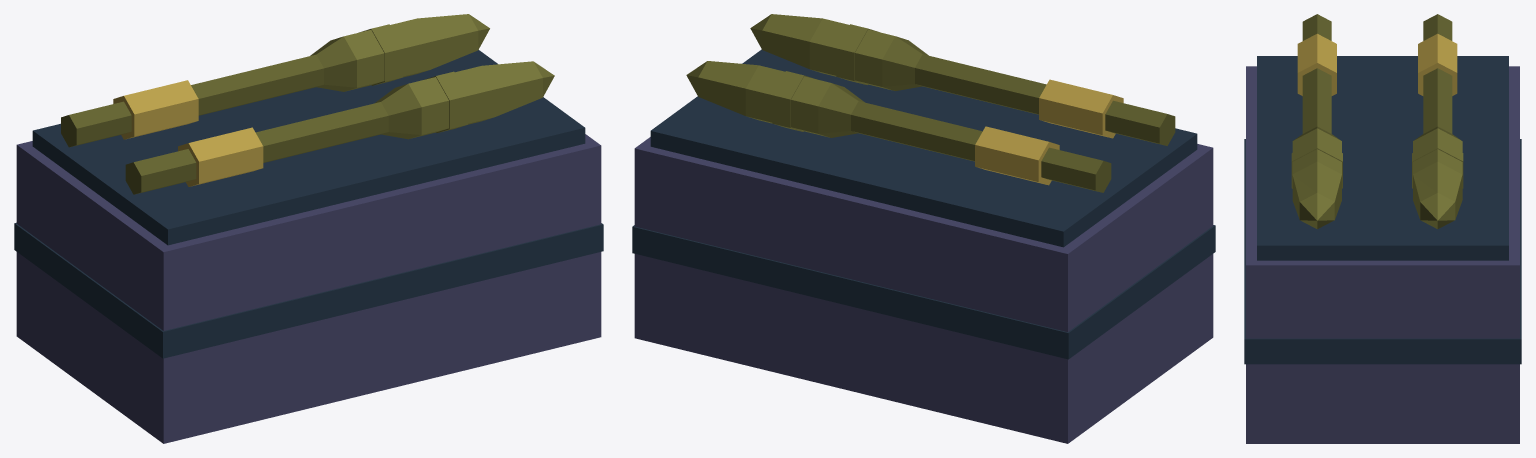
File: ce_ammo2_spg9_heat_c.obj
3 renders of one model, left to right at view 1: azimuth 30°, elevation 25°; view 2: azimuth 150°, elevation 25°; view 3: azimuth 270°, elevation 25°, orthographic. The views are drawn at different scales.
Parts seen in each view (by area): view 1: ce_ammo2_spg9_heat_c_0, ce_ammo2_spg9_heat_c_1, ce_ammo2_spg9_heat_c_2, ce_ammo2_spg9_heat_c_5, ce_ammo2_spg9_heat_c_14, ce_ammo2_spg9_heat_c_4, ce_ammo2_spg9_heat_c_13, ce_ammo2_spg9_heat_c_10, ce_ammo2_spg9_heat_c_19, ce_ammo2_spg9_heat_c_12, ce_ammo2_spg9_heat_c_3, ce_ammo2_spg9_heat_c_15 (+7 smaller); view 2: ce_ammo2_spg9_heat_c_0, ce_ammo2_spg9_heat_c_1, ce_ammo2_spg9_heat_c_2, ce_ammo2_spg9_heat_c_5, ce_ammo2_spg9_heat_c_14, ce_ammo2_spg9_heat_c_4, ce_ammo2_spg9_heat_c_13, ce_ammo2_spg9_heat_c_10, ce_ammo2_spg9_heat_c_19, ce_ammo2_spg9_heat_c_3, ce_ammo2_spg9_heat_c_12, ce_ammo2_spg9_heat_c_6 (+7 smaller); view 3: ce_ammo2_spg9_heat_c_0, ce_ammo2_spg9_heat_c_1, ce_ammo2_spg9_heat_c_2, ce_ammo2_spg9_heat_c_5, ce_ammo2_spg9_heat_c_14, ce_ammo2_spg9_heat_c_10, ce_ammo2_spg9_heat_c_19, ce_ammo2_spg9_heat_c_4, ce_ammo2_spg9_heat_c_13, ce_ammo2_spg9_heat_c_11, ce_ammo2_spg9_heat_c_20, ce_ammo2_spg9_heat_c_9 (+7 smaller).
Boxes of the visible parts, x1,y1,x2,y2 form: ce_ammo2_spg9_heat_c_0: (16, 134, 601, 443); ce_ammo2_spg9_heat_c_1: (32, 50, 585, 245); ce_ammo2_spg9_heat_c_2: (14, 222, 603, 358); ce_ammo2_spg9_heat_c_5: (191, 54, 323, 115); ce_ammo2_spg9_heat_c_14: (255, 102, 388, 162); ce_ammo2_spg9_heat_c_4: (113, 80, 198, 139); ce_ammo2_spg9_heat_c_13: (178, 127, 263, 186); ce_ammo2_spg9_heat_c_10: (417, 14, 478, 69); ce_ammo2_spg9_heat_c_19: (482, 61, 542, 116); ce_ammo2_spg9_heat_c_12: (125, 149, 196, 194); ce_ammo2_spg9_heat_c_3: (61, 101, 131, 147); ce_ammo2_spg9_heat_c_15: (375, 84, 421, 139); ce_ammo2_spg9_heat_c_0: (634, 137, 1213, 443); ce_ammo2_spg9_heat_c_1: (650, 49, 1197, 247); ce_ammo2_spg9_heat_c_2: (632, 225, 1215, 359); ce_ammo2_spg9_heat_c_5: (851, 101, 982, 161); ce_ammo2_spg9_heat_c_14: (915, 54, 1046, 114); ce_ammo2_spg9_heat_c_4: (975, 126, 1059, 185); ce_ammo2_spg9_heat_c_13: (1039, 79, 1123, 138); ce_ammo2_spg9_heat_c_10: (698, 61, 758, 115); ce_ammo2_spg9_heat_c_19: (762, 14, 822, 68); ce_ammo2_spg9_heat_c_3: (1041, 147, 1111, 192); ce_ammo2_spg9_heat_c_12: (1105, 100, 1175, 145); ce_ammo2_spg9_heat_c_6: (818, 83, 864, 137); ce_ammo2_spg9_heat_c_0: (1246, 66, 1519, 443); ce_ammo2_spg9_heat_c_1: (1257, 56, 1508, 260); ce_ammo2_spg9_heat_c_2: (1244, 139, 1521, 364); ce_ammo2_spg9_heat_c_5: (1423, 68, 1452, 133); ce_ammo2_spg9_heat_c_14: (1302, 68, 1331, 133); ce_ammo2_spg9_heat_c_10: (1413, 161, 1462, 219); ce_ammo2_spg9_heat_c_19: (1292, 161, 1341, 219); ce_ammo2_spg9_heat_c_4: (1418, 33, 1457, 95); ce_ammo2_spg9_heat_c_13: (1297, 33, 1336, 95); ce_ammo2_spg9_heat_c_11: (1420, 193, 1455, 229); ce_ammo2_spg9_heat_c_20: (1299, 193, 1334, 229); ce_ammo2_spg9_heat_c_9: (1413, 149, 1462, 174).
Size of the model in its own units: 0.866 by 0.4962 by 0.506.
